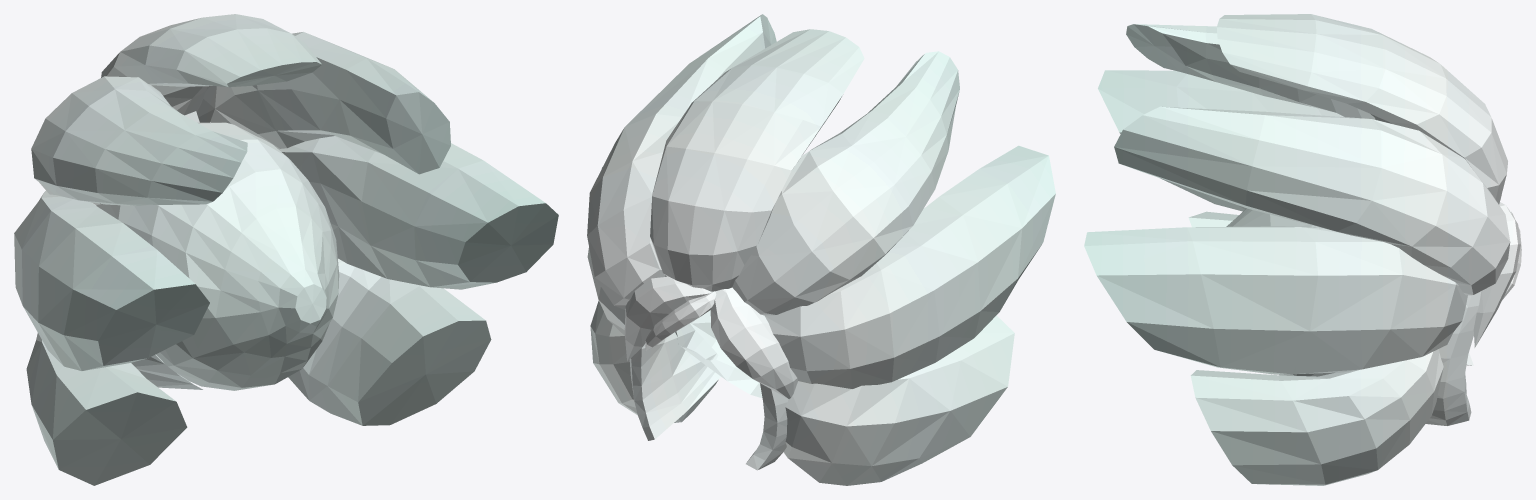
File: CharSkyKid_Hair_Puff.glb
The picture shows the model from 3 angles, left to right: view 1: azimuth 30°, elevation 25°; view 2: azimuth 150°, elevation 25°; view 3: azimuth 270°, elevation 25°; orthographic projection. The views are drawn at different scales.
Parts seen in each view (by area): view 1: CharSkyKid_Hair_Puff; view 2: CharSkyKid_Hair_Puff; view 3: CharSkyKid_Hair_Puff.
Boxes of the visible parts, box(x1,y1,x2,y2) form: CharSkyKid_Hair_Puff: box(14, 14, 558, 485); CharSkyKid_Hair_Puff: box(587, 14, 1055, 485); CharSkyKid_Hair_Puff: box(1084, 14, 1521, 485).
Size of the model in its own units: 5.32 by 4.86 by 4.81.
Materials: 1 (1 with a texture image).
